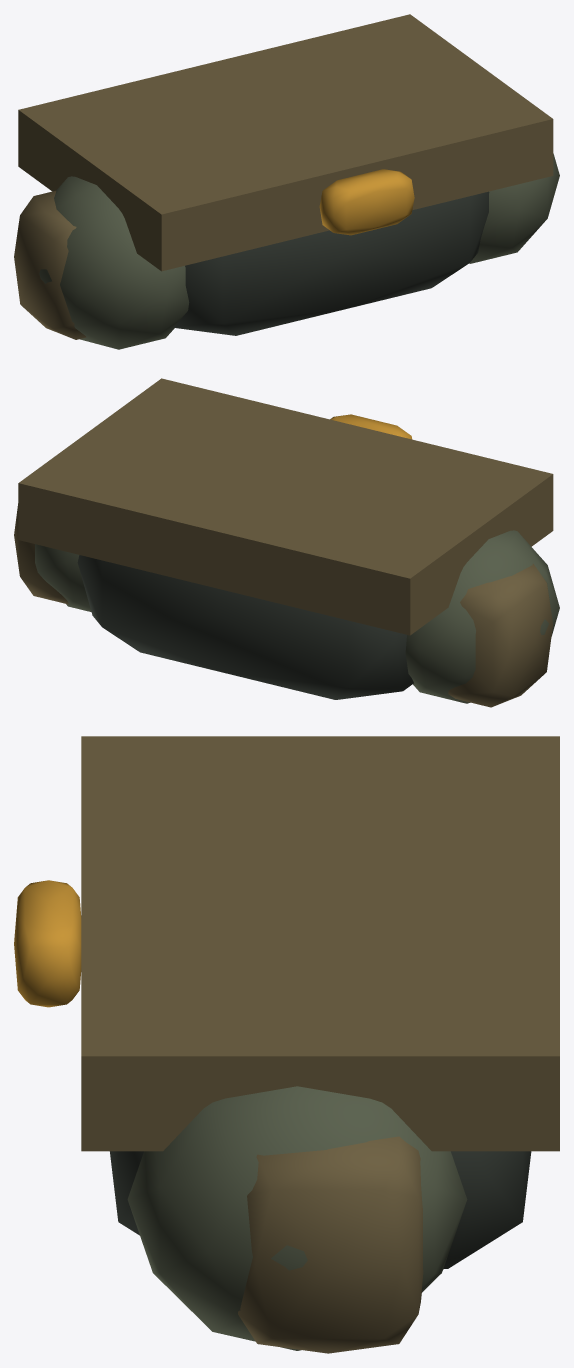
Rendered from Bastion_Grenadier_Pelvis.obj.
3 renders of one model, top to bottom at view 1: azimuth 30°, elevation 25°; view 2: azimuth 150°, elevation 25°; view 3: azimuth 270°, elevation 25°, orthographic. The views are drawn at different scales.
Parts seen in each view (by area): view 1: Belt, PelvisCore, LeftHipGuard, LeftPouch, Buckle, RightHipGuard; view 2: Belt, PelvisCore, LeftPouch, LeftHipGuard, RightHipGuard, RightPouch, Buckle; view 3: Belt, RightHipGuard, RightPouch, PelvisCore, Buckle.
Boxes of the visible parts, bbox=[...] form: Belt: bbox=[18, 14, 553, 271]; PelvisCore: bbox=[174, 191, 489, 335]; LeftHipGuard: bbox=[39, 176, 189, 349]; LeftPouch: bbox=[14, 190, 86, 339]; Buckle: bbox=[319, 169, 414, 235]; RightHipGuard: bbox=[469, 153, 559, 263]; Belt: bbox=[18, 378, 553, 635]; PelvisCore: bbox=[77, 555, 413, 699]; LeftPouch: bbox=[448, 563, 552, 707]; LeftHipGuard: bbox=[405, 530, 559, 703]; RightHipGuard: bbox=[35, 544, 91, 611]; RightPouch: bbox=[14, 503, 68, 604]; Buckle: bbox=[330, 414, 412, 439]; Belt: bbox=[81, 736, 559, 1151]; RightHipGuard: bbox=[127, 1086, 467, 1350]; RightPouch: bbox=[238, 1136, 423, 1353]; PelvisCore: bbox=[110, 1151, 531, 1269]; Buckle: bbox=[14, 880, 81, 1007].
Size of the model in its own units: 0.63 by 0.214 by 0.3535.
Materials: 1 (1 with a texture image).
